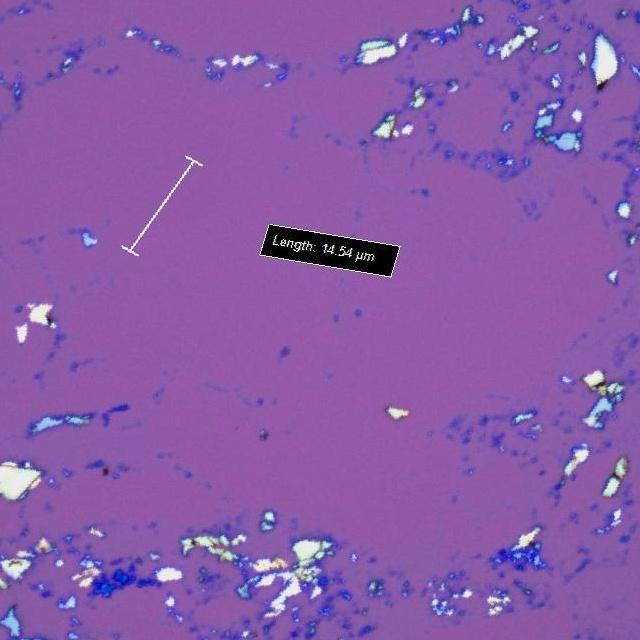monolayer-eWW4: (280, 345, 292, 359)
